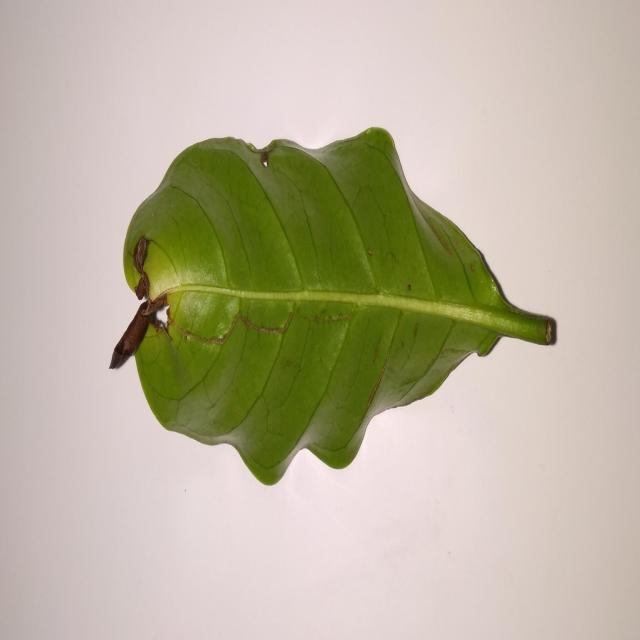Enfermedad-Antracnosis: (109, 128, 558, 489)
